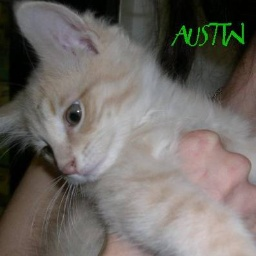cat: (5, 2, 256, 256)
